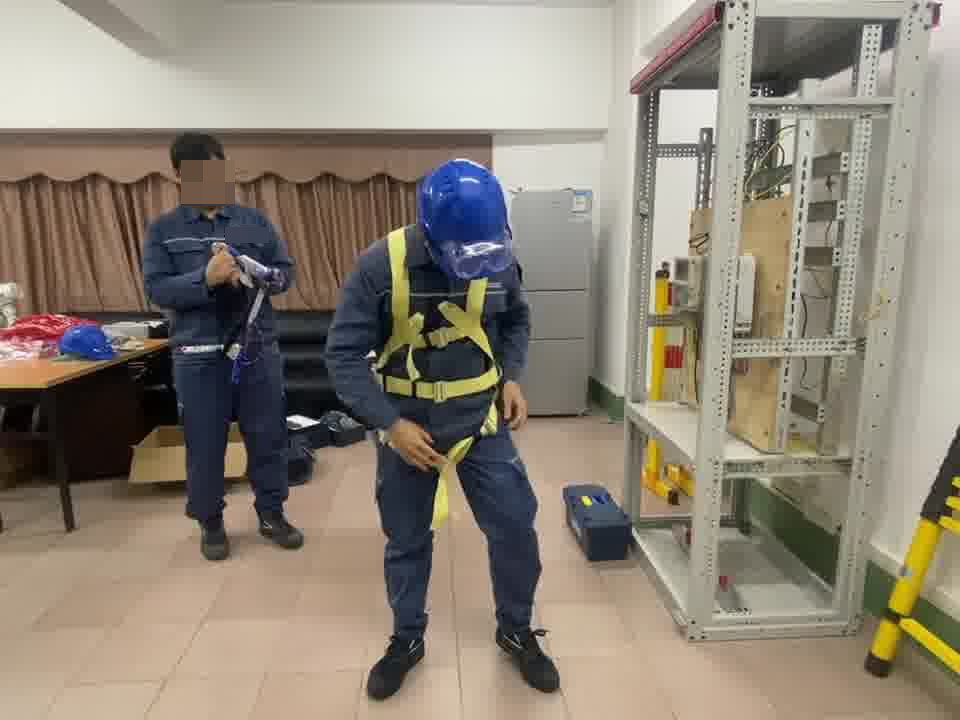downsuit: (378, 433, 545, 638), (172, 355, 293, 513)
halt: (417, 158, 518, 272)
hand: (387, 416, 446, 471), (207, 247, 248, 292), (499, 375, 529, 433)
person: (324, 157, 564, 705), (141, 134, 305, 562)
safebelt: (371, 225, 504, 531)
unhalt: (169, 133, 232, 205)
upsuit: (328, 221, 533, 432), (145, 200, 293, 348)
